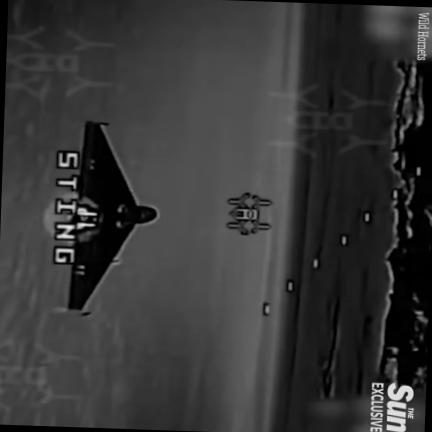Shahed: (68, 121, 158, 310)
